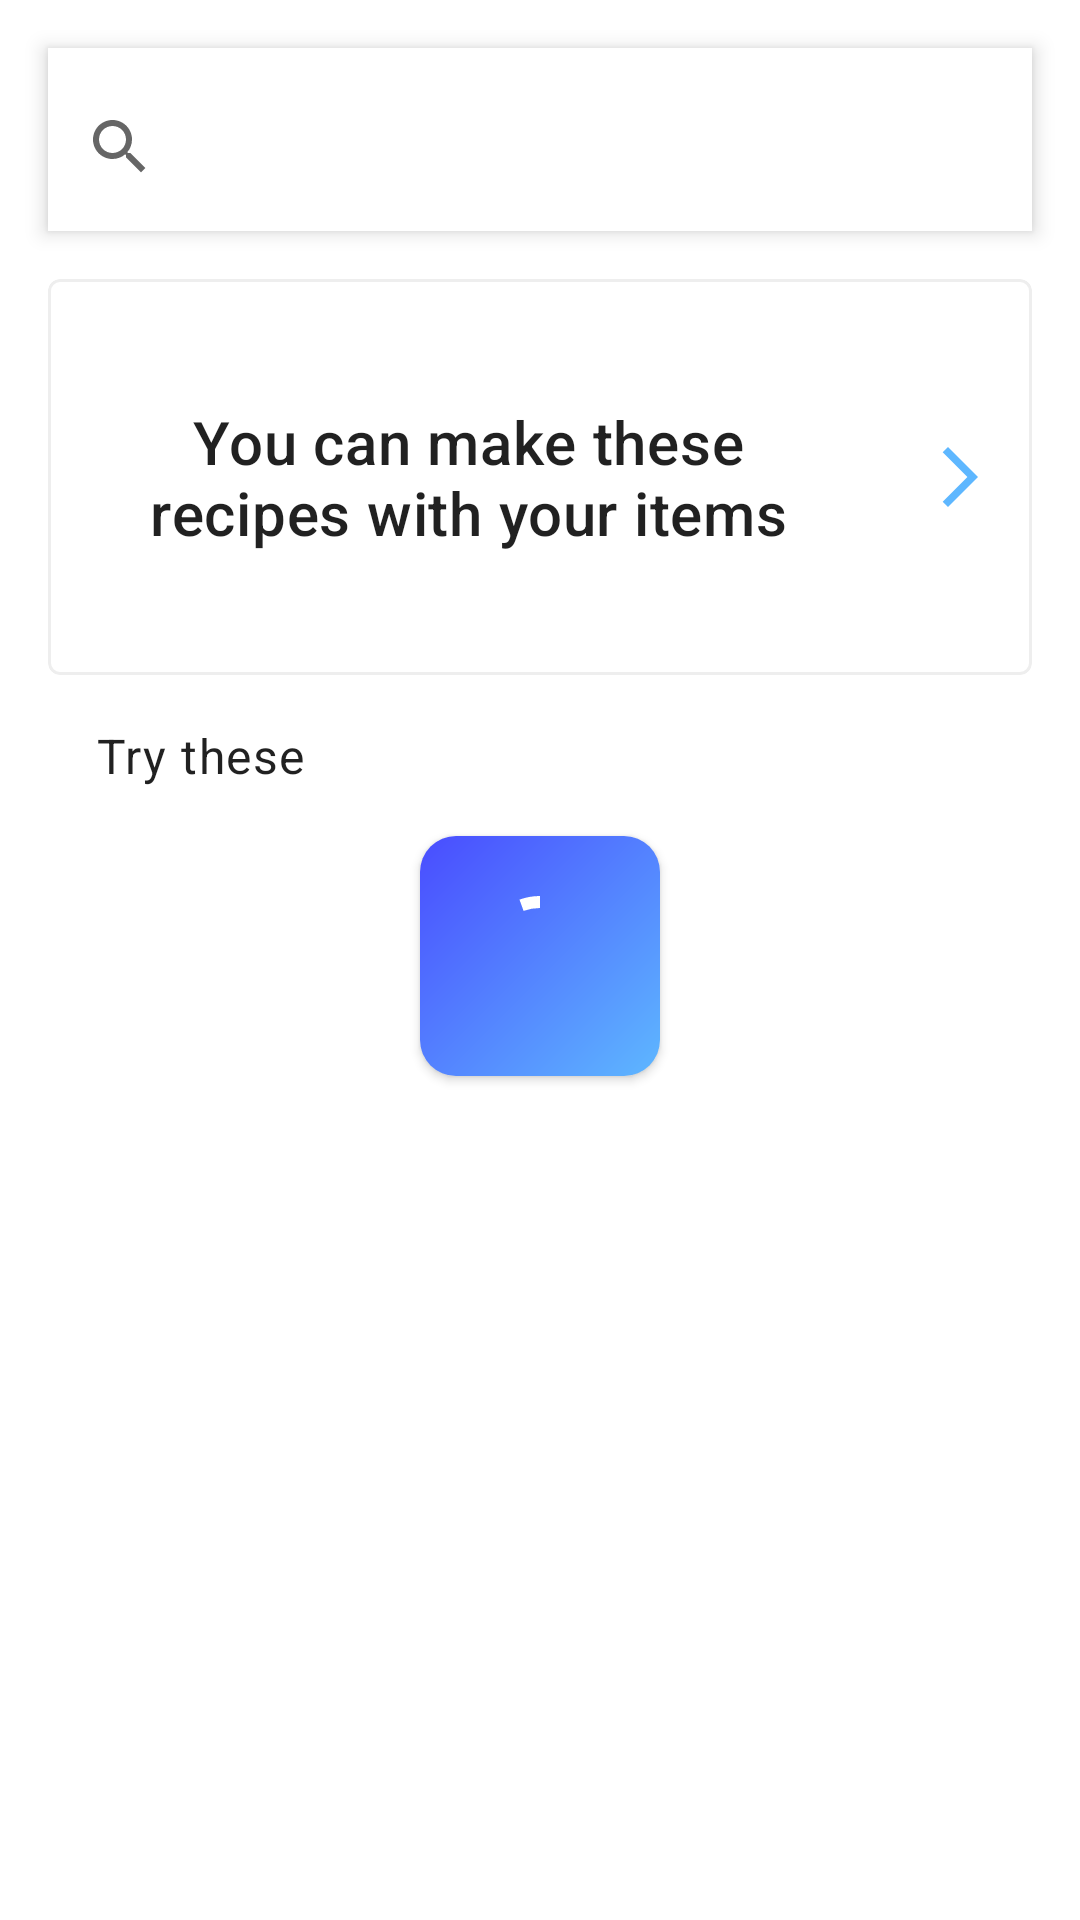

Named icons in this screenshot (1080x1920) and their bounding boxes, [x1=x1, y1=y1, x2=x2, y2=y2]:
right arrow: [x1=943, y1=447, x2=978, y2=507]
